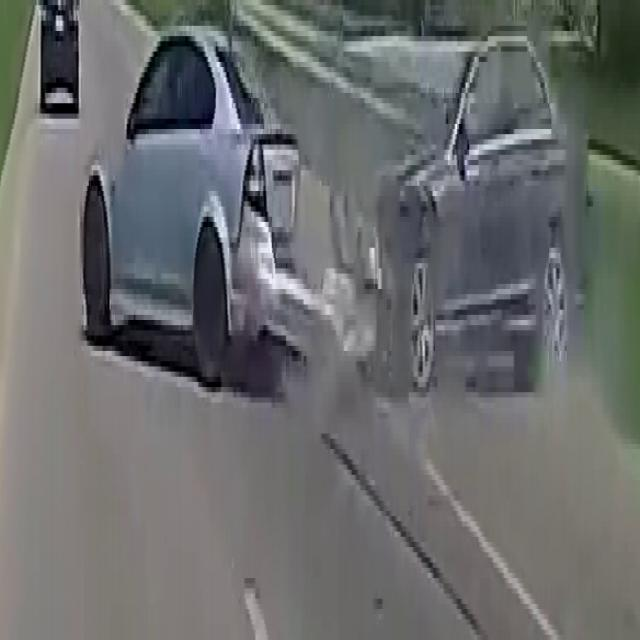accident: (80, 18, 599, 399)
